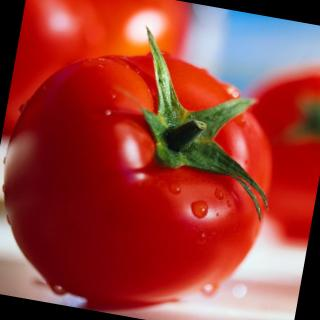Tomat: (1, 3, 297, 320)
